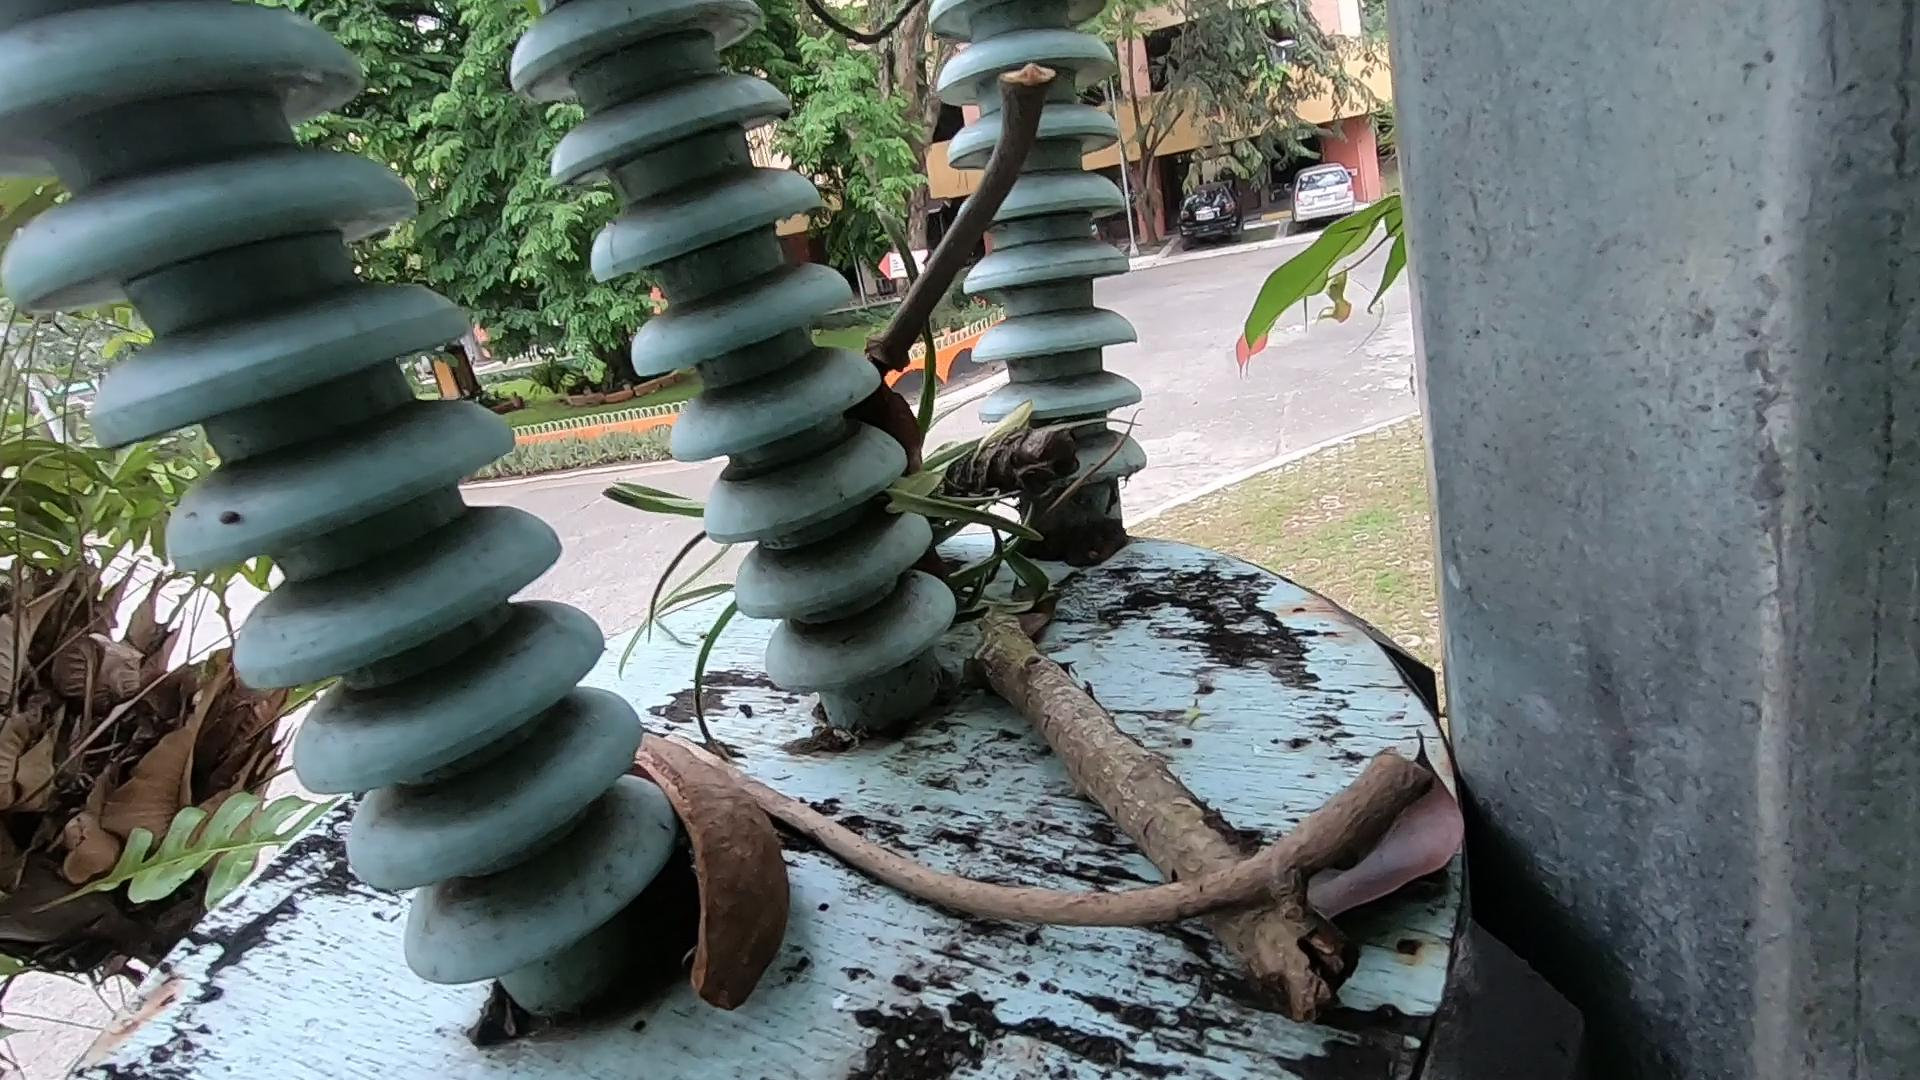branch with leaves: (770, 351, 1349, 957)
leaf: (1327, 736, 1458, 963)
mahogany fruit: (582, 665, 818, 1004)
tree branch: (698, 742, 1449, 924), (831, 1, 1085, 483)
